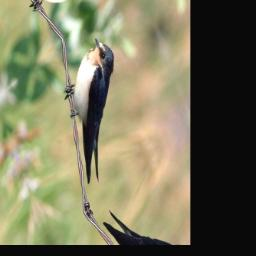Swallow: (45, 28, 147, 192)
